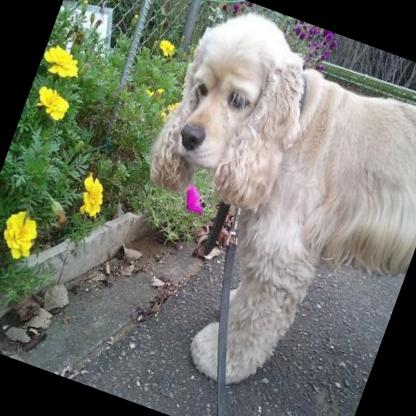cocker_spaniel: (83, 0, 416, 416)
